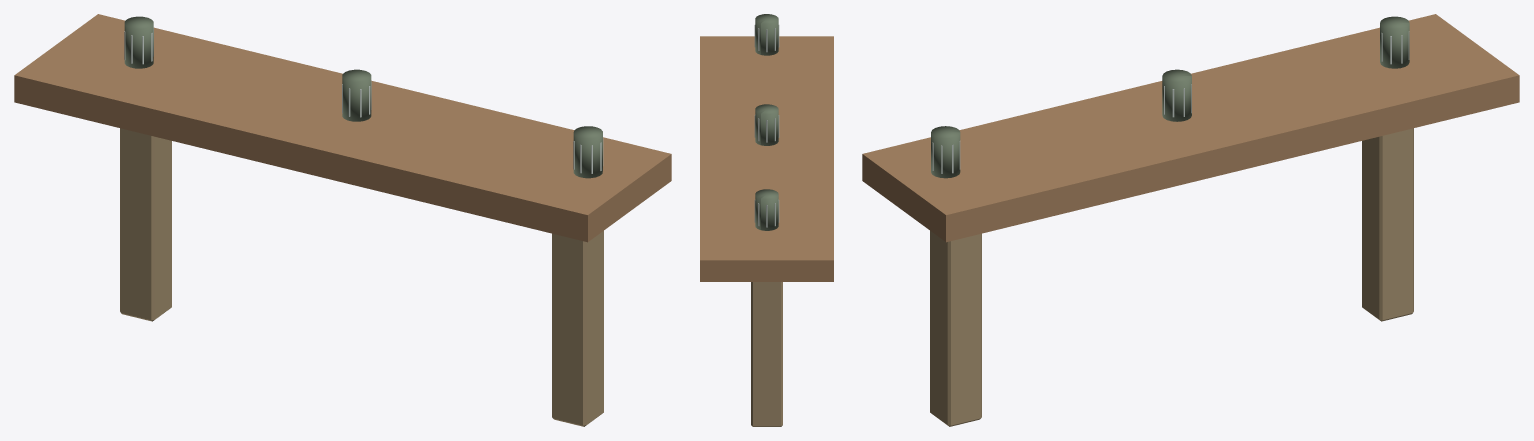
File: yokocho-booth-table.glb
3 renders of one model, left to right at view 1: azimuth 30°, elevation 25°; view 2: azimuth 150°, elevation 25°; view 3: azimuth 270°, elevation 25°, orthographic. The views are drawn at different scales.
Parts seen in each view (by area): view 1: Shops/S04/Personality/BoothTable__Night_Walnut, Shops/S04/Personality/BoothTable__Bronze, Shops/S04/Personality/BoothTable__Night_SmokyGlass, Shops/S04/Personality/BoothTable__Ceramic; view 2: Shops/S04/Personality/BoothTable__Night_Walnut, Shops/S04/Personality/BoothTable__Bronze, Shops/S04/Personality/BoothTable__Night_SmokyGlass, Shops/S04/Personality/BoothTable__Ceramic; view 3: Shops/S04/Personality/BoothTable__Night_Walnut, Shops/S04/Personality/BoothTable__Bronze, Shops/S04/Personality/BoothTable__Night_SmokyGlass, Shops/S04/Personality/BoothTable__Ceramic.
Part boxes in pixels (bbox=[...]): Shops/S04/Personality/BoothTable__Night_Walnut: bbox=[14, 14, 671, 242]; Shops/S04/Personality/BoothTable__Bronze: bbox=[120, 128, 603, 426]; Shops/S04/Personality/BoothTable__Night_SmokyGlass: bbox=[124, 16, 602, 178]; Shops/S04/Personality/BoothTable__Ceramic: bbox=[124, 28, 603, 173]; Shops/S04/Personality/BoothTable__Night_Walnut: bbox=[700, 36, 833, 281]; Shops/S04/Personality/BoothTable__Bronze: bbox=[751, 282, 782, 426]; Shops/S04/Personality/BoothTable__Night_SmokyGlass: bbox=[755, 14, 778, 230]; Shops/S04/Personality/BoothTable__Ceramic: bbox=[754, 24, 779, 227]; Shops/S04/Personality/BoothTable__Night_Walnut: bbox=[862, 14, 1519, 242]; Shops/S04/Personality/BoothTable__Bronze: bbox=[930, 128, 1413, 426]; Shops/S04/Personality/BoothTable__Night_SmokyGlass: bbox=[931, 16, 1409, 178]; Shops/S04/Personality/BoothTable__Ceramic: bbox=[932, 31, 1409, 173].
Bounding box in the file's own units: 1.19 × 0.794 × 1.65.
